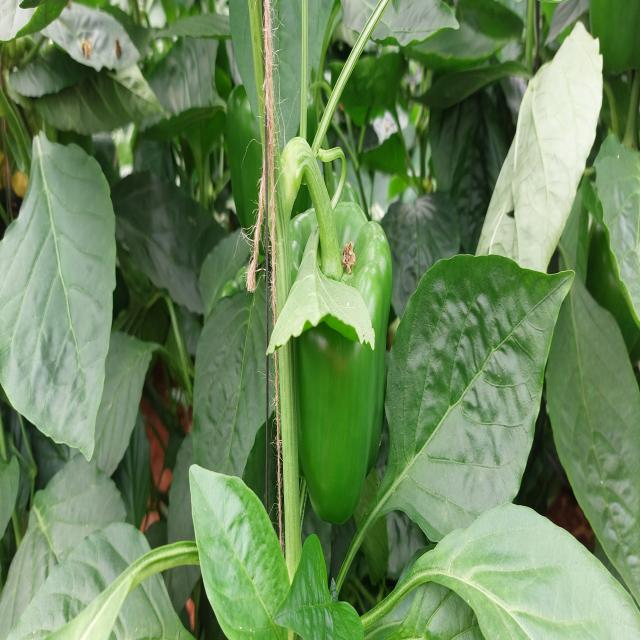Green--Not-ready-to-harvest: (274, 206, 392, 536)
